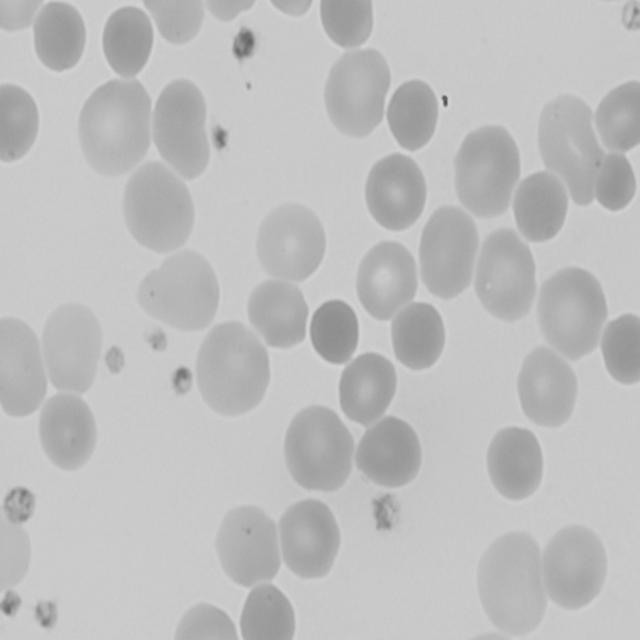RBC: (472, 532, 548, 638), (118, 161, 196, 262), (194, 322, 273, 421), (77, 81, 154, 179), (535, 264, 608, 364), (449, 118, 520, 219), (142, 245, 220, 335), (538, 520, 612, 614), (321, 45, 391, 142), (474, 224, 540, 324), (41, 298, 107, 398), (421, 203, 484, 307), (256, 199, 330, 287), (284, 406, 356, 496), (215, 500, 282, 590), (353, 238, 420, 324), (276, 495, 342, 582), (514, 346, 580, 432), (37, 393, 102, 480), (365, 150, 431, 235), (356, 417, 424, 493), (337, 350, 400, 428), (0, 315, 47, 419), (247, 279, 312, 353), (30, 0, 89, 71), (318, 0, 379, 57), (0, 85, 44, 163), (593, 84, 640, 154), (170, 601, 246, 640), (0, 0, 47, 31)
Spherocyte: (483, 422, 547, 506), (382, 79, 442, 155), (101, 2, 158, 80), (389, 301, 449, 374), (513, 167, 568, 246), (304, 297, 361, 369), (596, 312, 640, 389), (239, 583, 297, 640)
